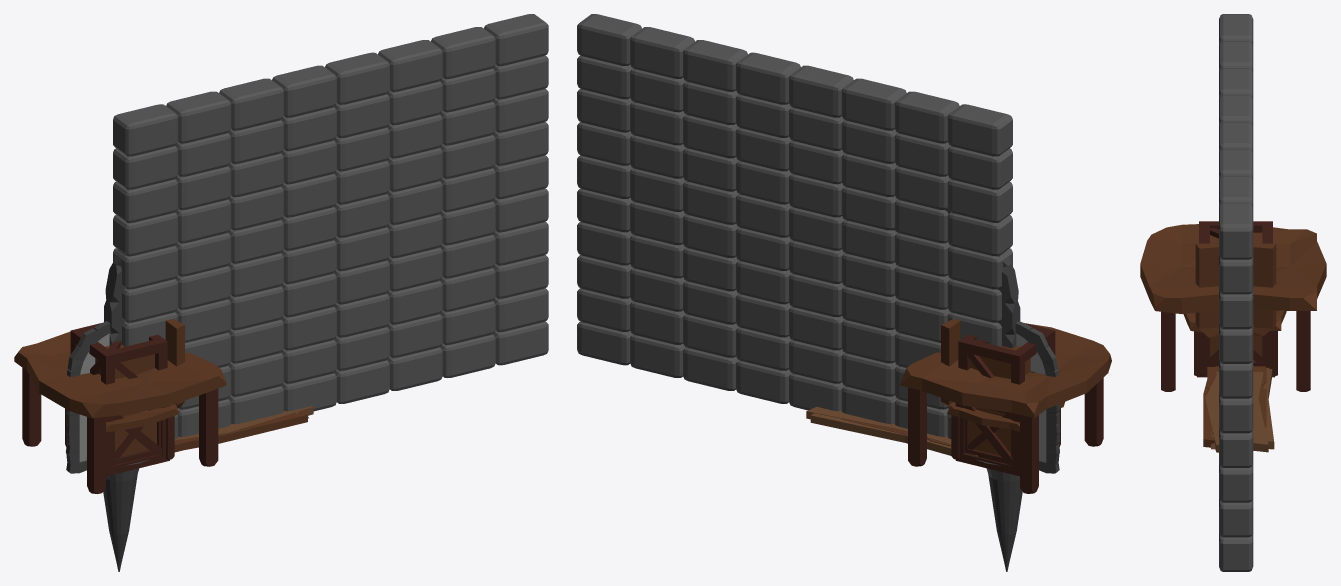
The model's file is Project03_Background_Assets.fbx.
The picture shows the model from 3 angles, left to right: view 1: azimuth 30°, elevation 25°; view 2: azimuth 150°, elevation 25°; view 3: azimuth 270°, elevation 25°; orthographic projection. The views are drawn at different scales.
Visible parts, largest first — view 1: Stone_Wall, Table, Tall_Crate, Chair, Window, Small_Crate, Stalactite_02, Door, Plank_01; view 2: Stone_Wall, Table, Tall_Crate, Window, Chair, Small_Crate, Stalactite_02, Door, Plank_02, Plank_04; view 3: Stone_Wall, Table, Chair, Plank_04, Tall_Crate, Small_Crate, Plank_03, Plank_02, Plank_01.
Part boxes in pixels (bbox=[...]): Stone_Wall: bbox=[113, 14, 548, 438]; Table: bbox=[14, 331, 226, 493]; Tall_Crate: bbox=[70, 323, 167, 465]; Chair: bbox=[65, 319, 184, 474]; Window: bbox=[65, 321, 111, 473]; Small_Crate: bbox=[106, 406, 169, 476]; Stalactite_02: bbox=[86, 457, 149, 571]; Door: bbox=[104, 208, 231, 345]; Plank_01: bbox=[187, 410, 307, 449]; Stone_Wall: bbox=[577, 14, 1012, 438]; Table: bbox=[900, 323, 1111, 493]; Tall_Crate: bbox=[958, 323, 1055, 463]; Window: bbox=[1015, 321, 1060, 473]; Chair: bbox=[941, 319, 1064, 474]; Small_Crate: bbox=[955, 403, 1019, 476]; Stalactite_02: bbox=[976, 457, 1039, 571]; Door: bbox=[893, 208, 1020, 348]; Plank_02: bbox=[810, 413, 977, 456]; Plank_04: bbox=[806, 407, 951, 444]; Stone_Wall: bbox=[1219, 14, 1253, 571]; Table: bbox=[1140, 224, 1326, 391]; Chair: bbox=[1183, 243, 1286, 376]; Plank_04: bbox=[1205, 371, 1268, 452]; Tall_Crate: bbox=[1199, 221, 1272, 366]; Small_Crate: bbox=[1197, 331, 1274, 377]; Plank_03: bbox=[1203, 366, 1266, 427]; Plank_02: bbox=[1211, 367, 1274, 449]; Plank_01: bbox=[1203, 380, 1264, 447].
Size of the model in its own units: 499 by 428 by 153.
